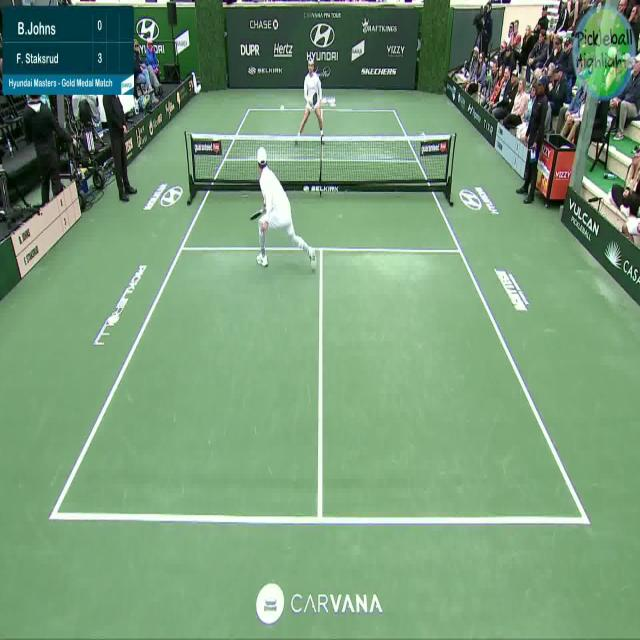ball: (280, 103, 284, 110)
